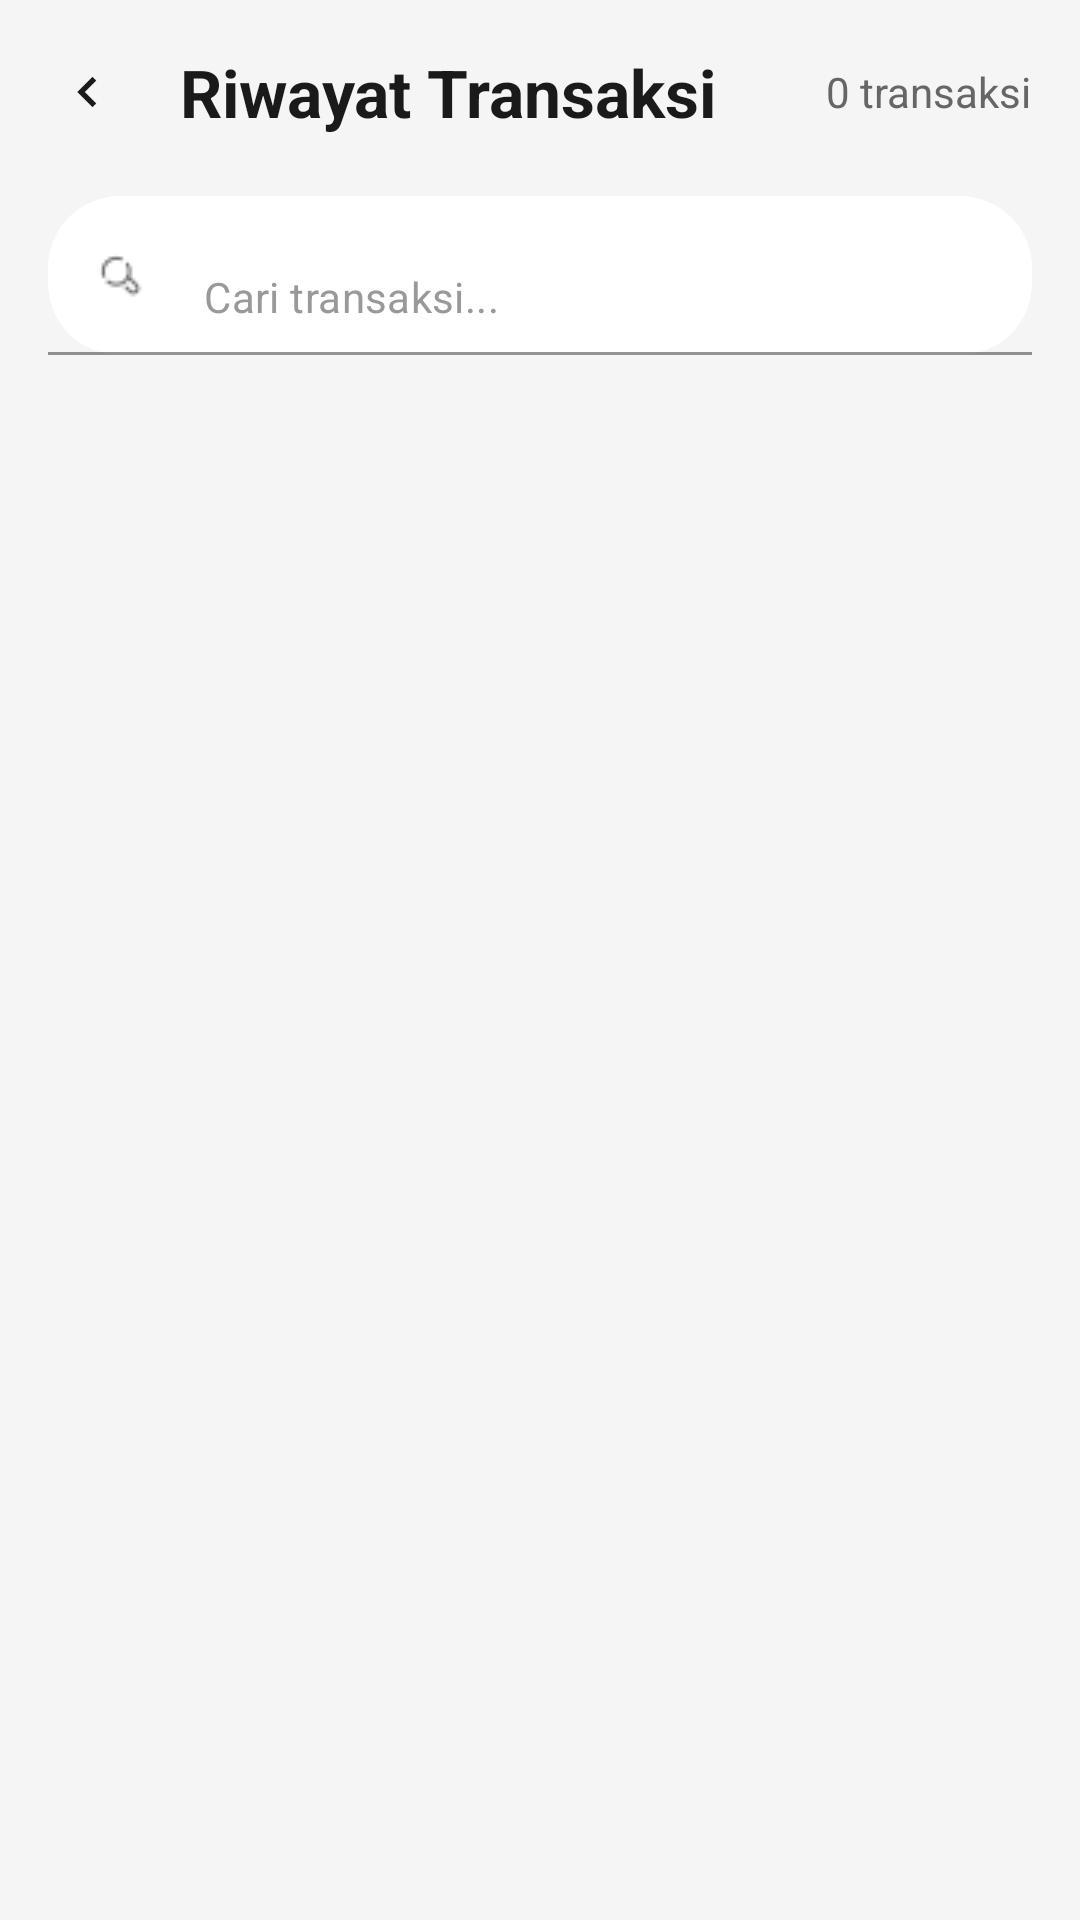

Screen size 1080 x 1920. Icon name, then its box in pixels as (x1, y1, x2, y2):
Kembali: (77, 77, 96, 107)
